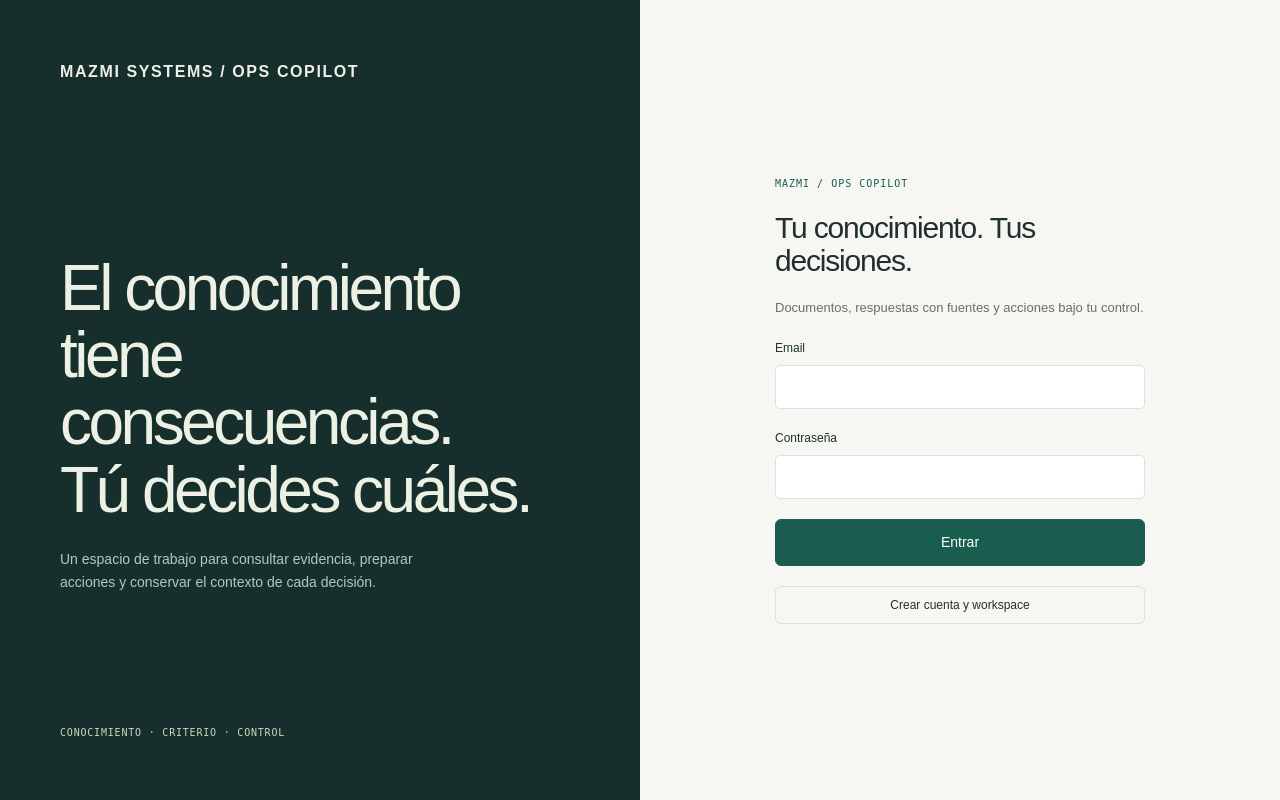
Test: invalid sign in remains on the form and never opens workspace data
Check: the button "Entrar" is shown, box [775,519,1145,566]
Step 1. Type "person@test.local" into the field labelled "Email" → (960, 387), box [775,365,1145,409]
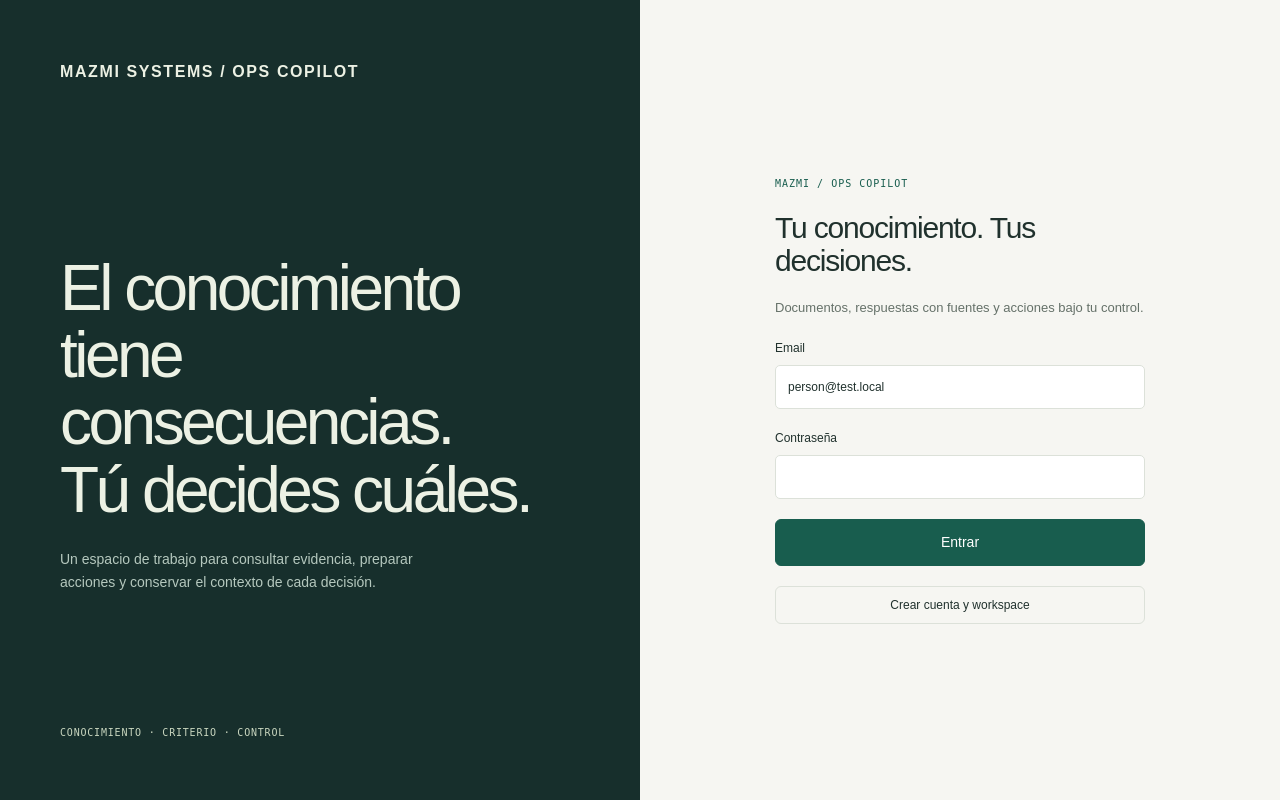
Step 2. Type "fictitious-password" into the password field labelled "Contraseña" → (960, 477), box [775,455,1145,499]
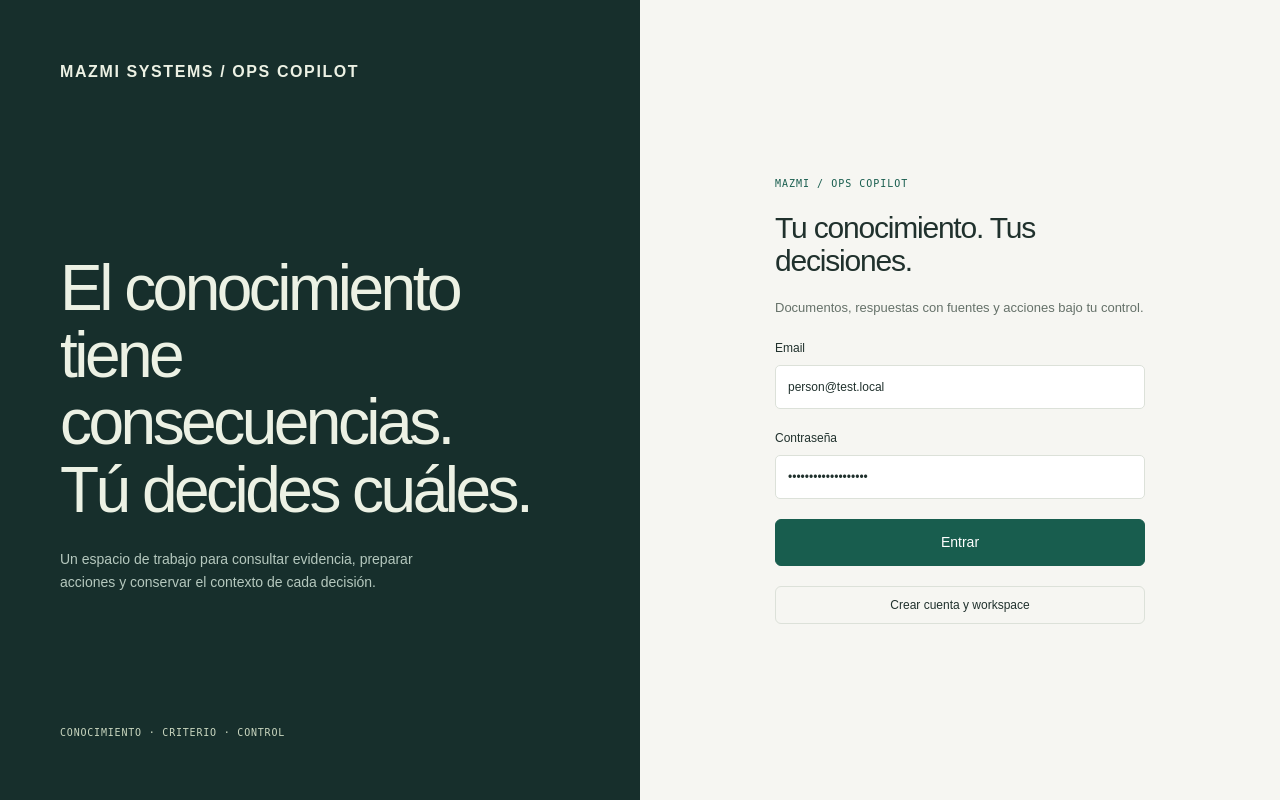
Step 3. Click the button "Entrar" → (960, 542), box [775,519,1145,566]
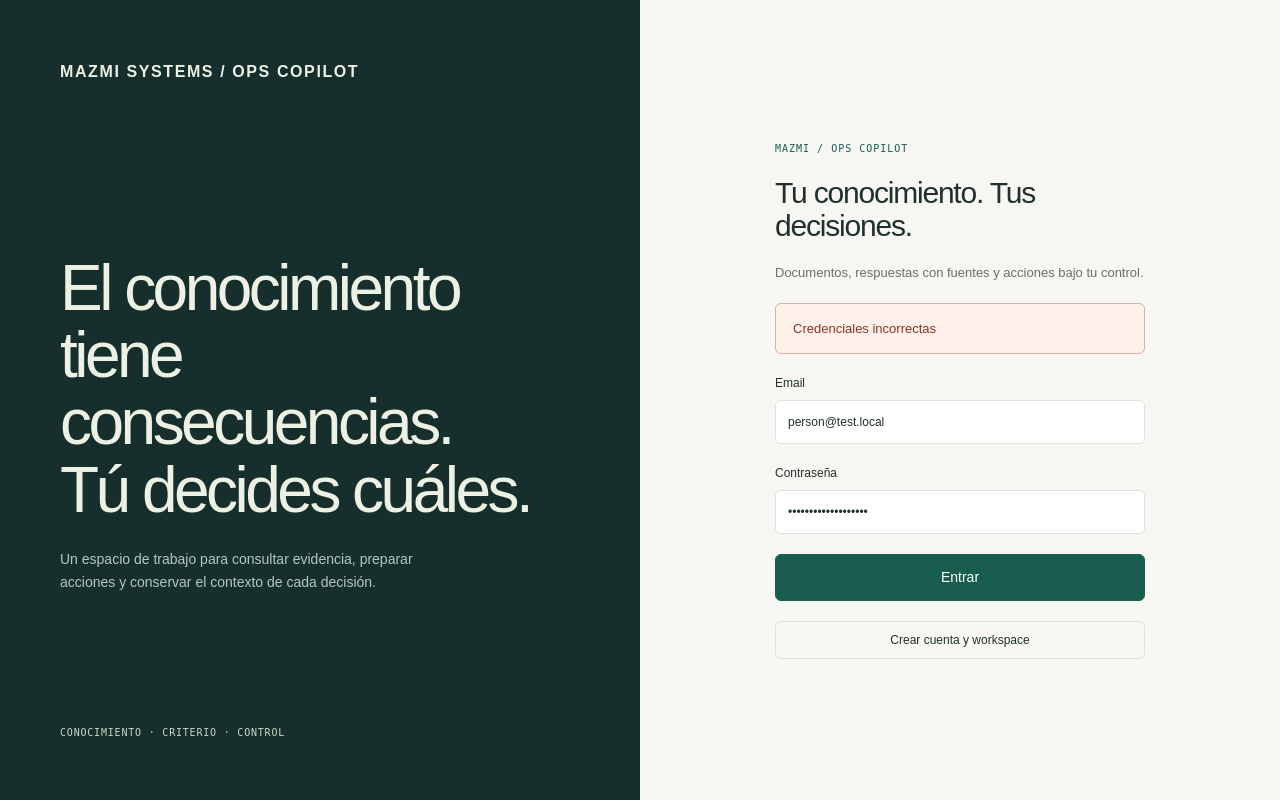
Check: the message reads "Credenciales incorrectas", box [793,321,936,336]
